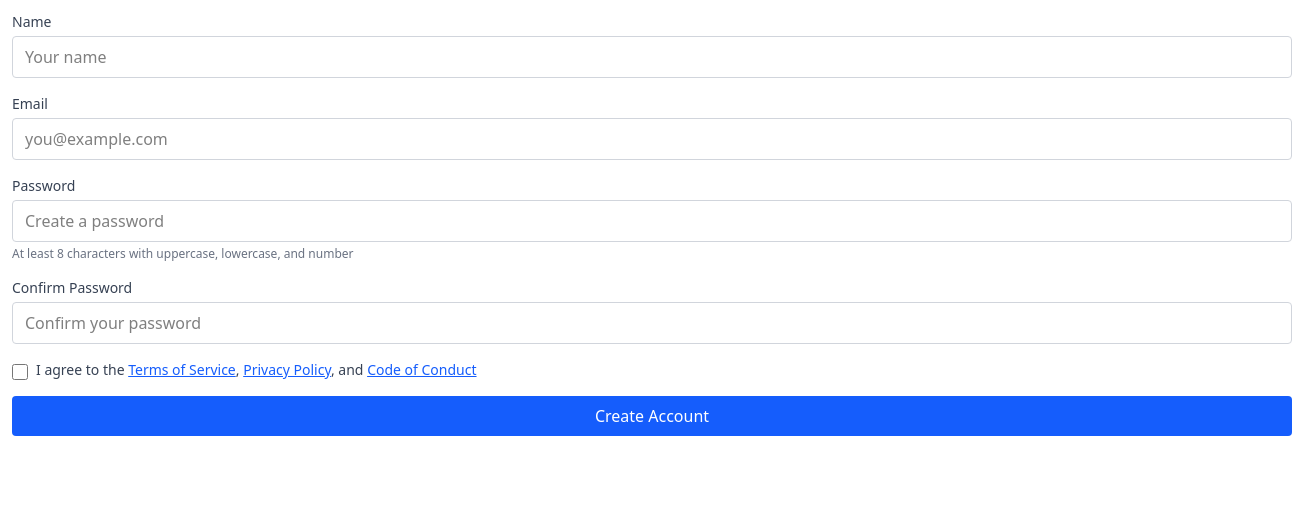
RegisterForm › shows "An account with this email already exists" for OpprsConflictError
Type "Test User" into the field labelled "Name" at (652, 57), box [12, 36, 1292, 78]
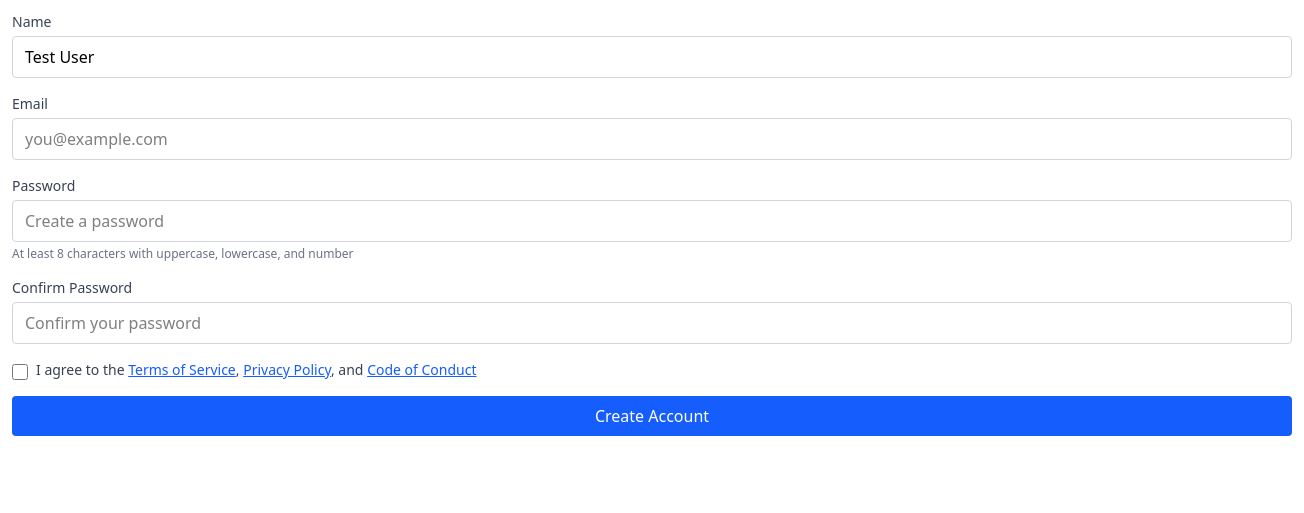
Type "existing@example.com" into the field labelled "Email" at (652, 139), box [12, 118, 1292, 160]
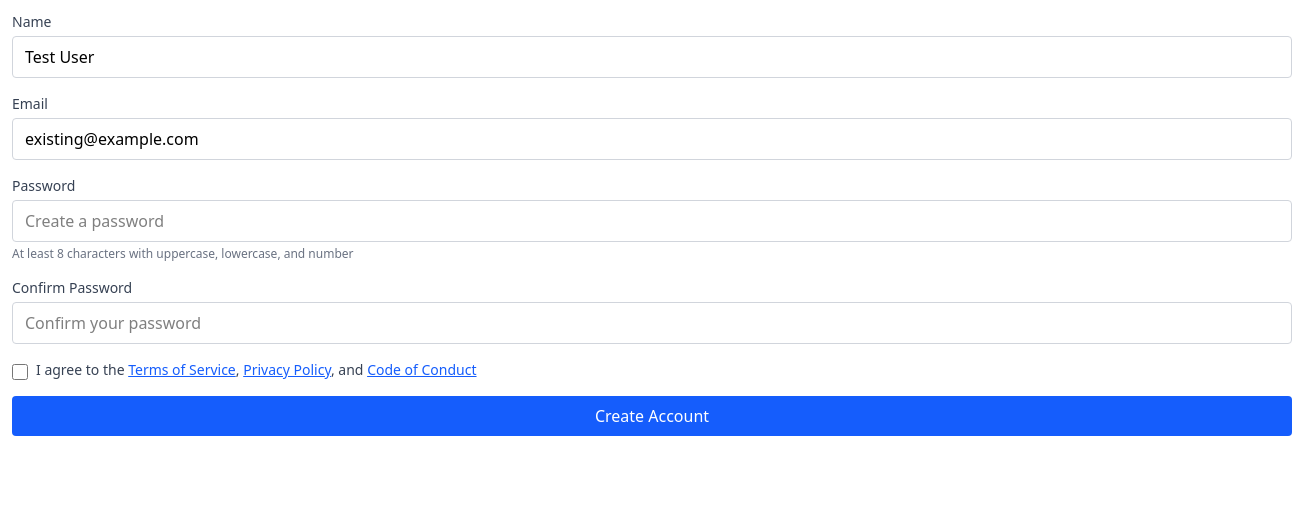
Type "Password123" into the password field labelled "Password" at (652, 221), box [12, 200, 1292, 242]
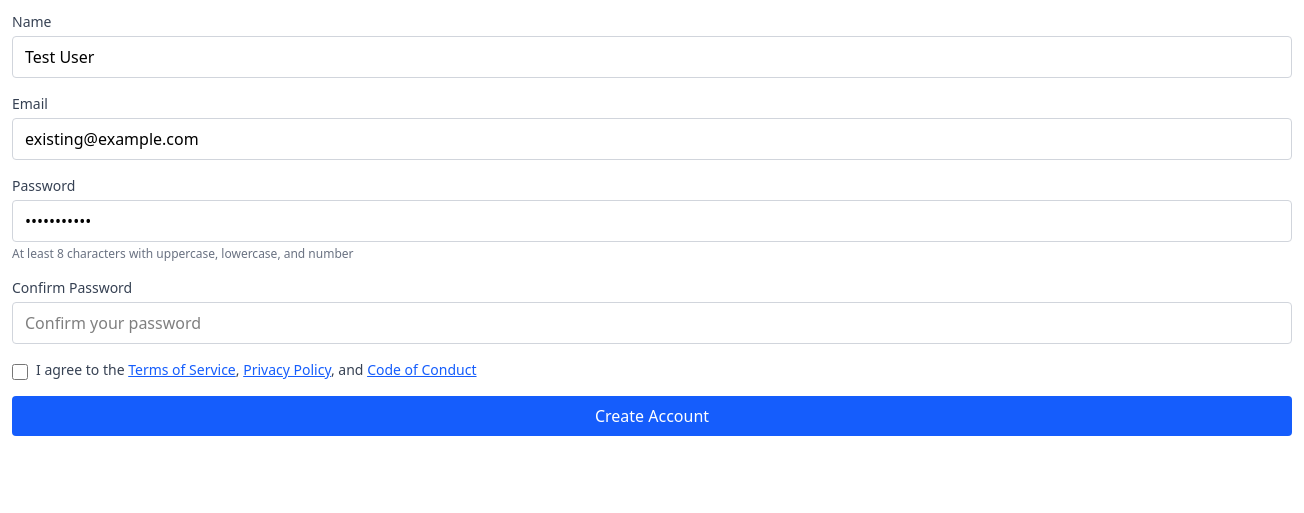
Type "Password123" into the password field labelled "Confirm Password" at (652, 323), box [12, 302, 1292, 344]
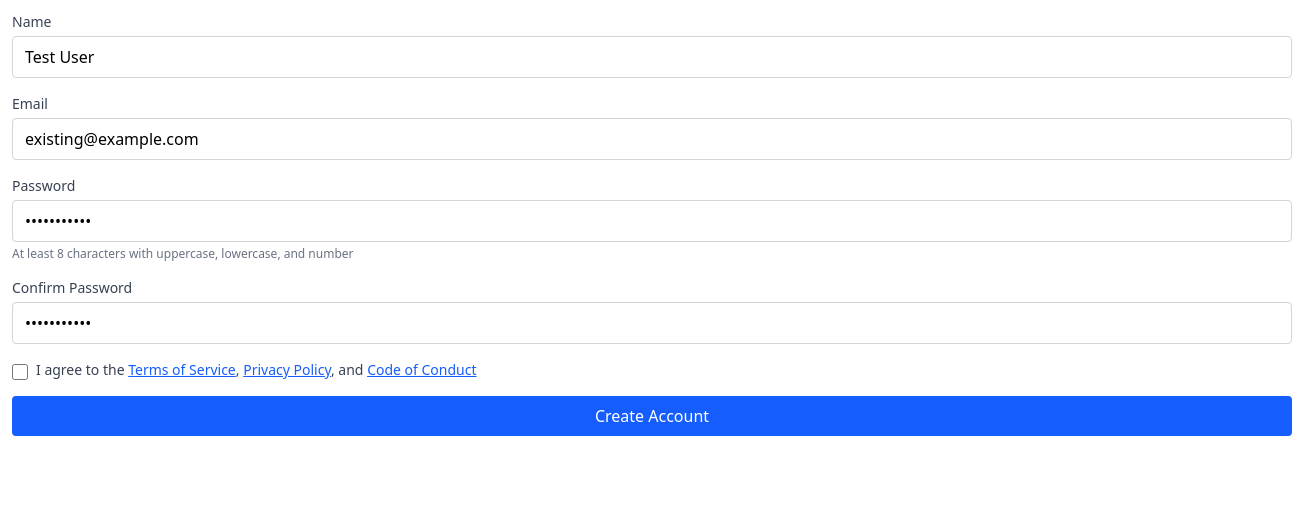
Click the checkbox at (20, 372), box [12, 364, 28, 380]
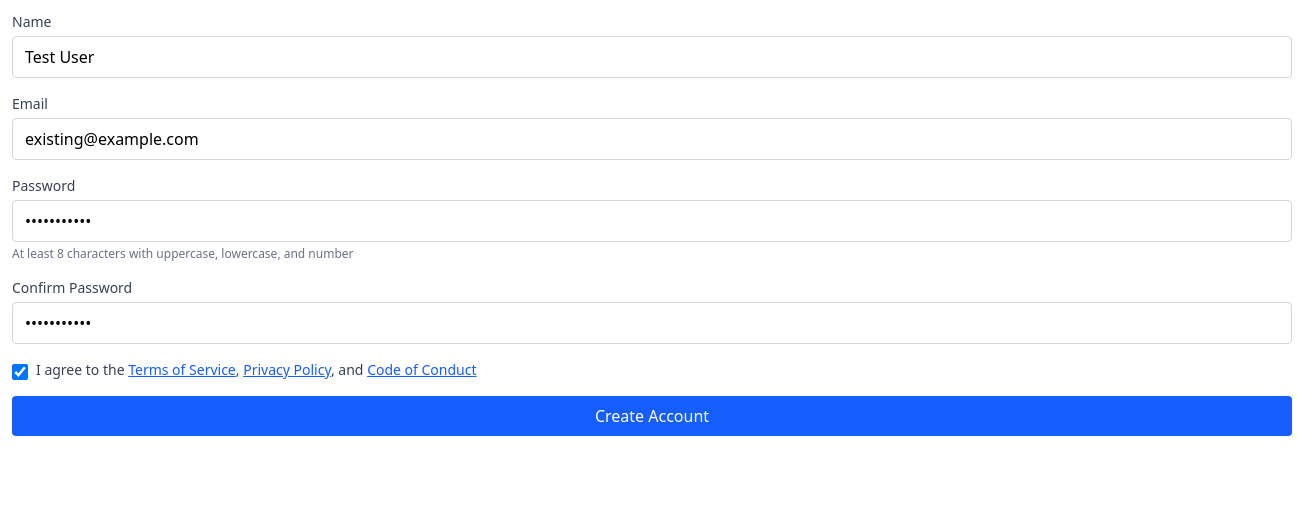
Click the button "Create Account" at (652, 416), box [12, 396, 1292, 436]
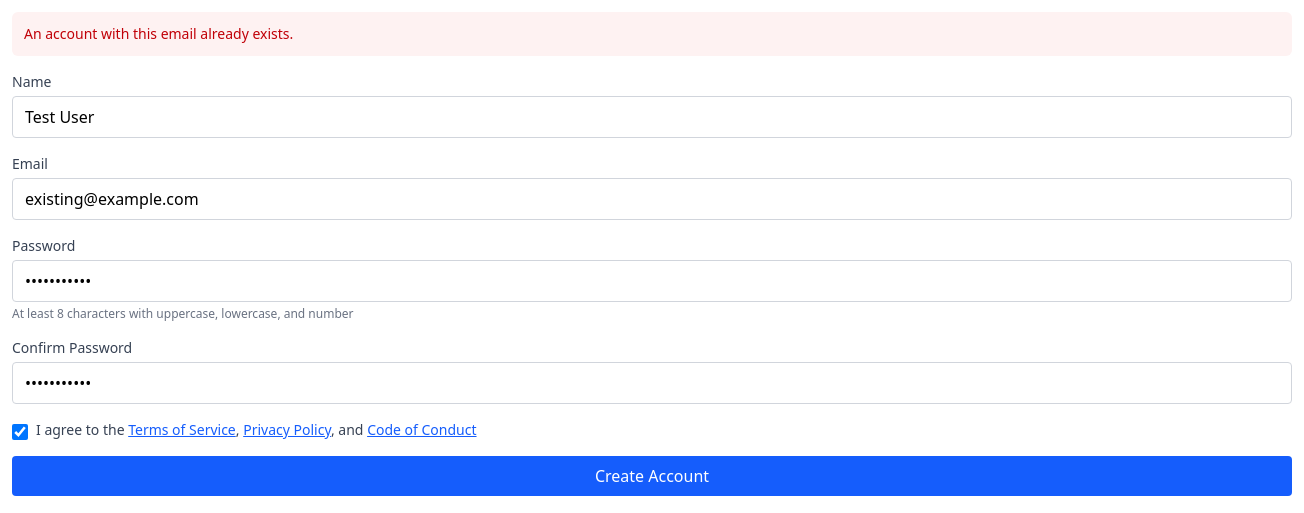
Check: the text "An account with this email already exists." is shown, box [12, 12, 1292, 56]
